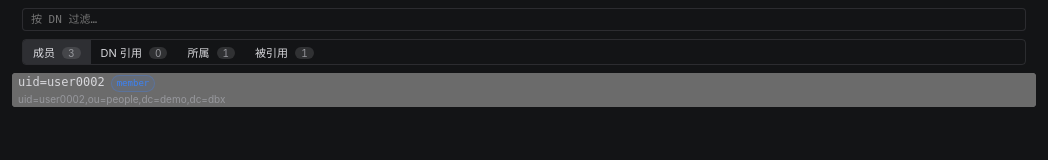
Scenario: AssociationPanel sub-tabs › switches lists exclusively; only the active tab's list section is rendered
This screenshot has width=1048, height=160.
Expected: the element with class "assoc-members" is shown, [12,73,1036,107]
Click the tab "所属 1": {"x": 211, "y": 52} [178,40,245,64]
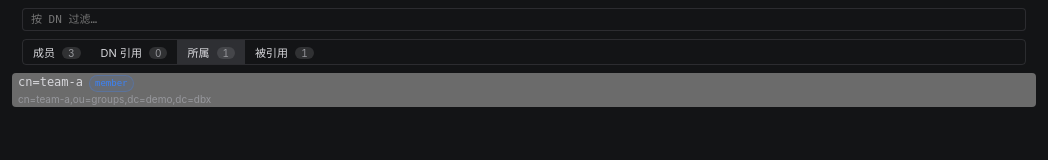
Expected: the element with class "assoc-member-of" is shown, [12,73,1036,107]
Click the tab "DN 引用 0": {"x": 134, "y": 52} [91,40,178,64]
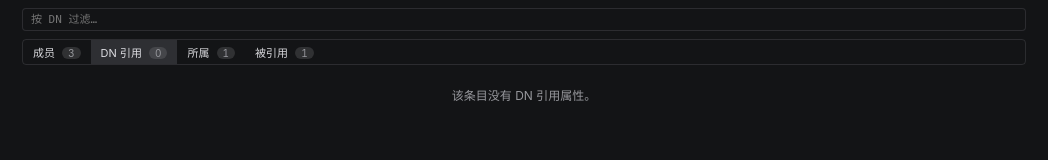
Expected: the text with class "empty" reads "该条目没有 DN 引用属性。", [452,88,596,102]
